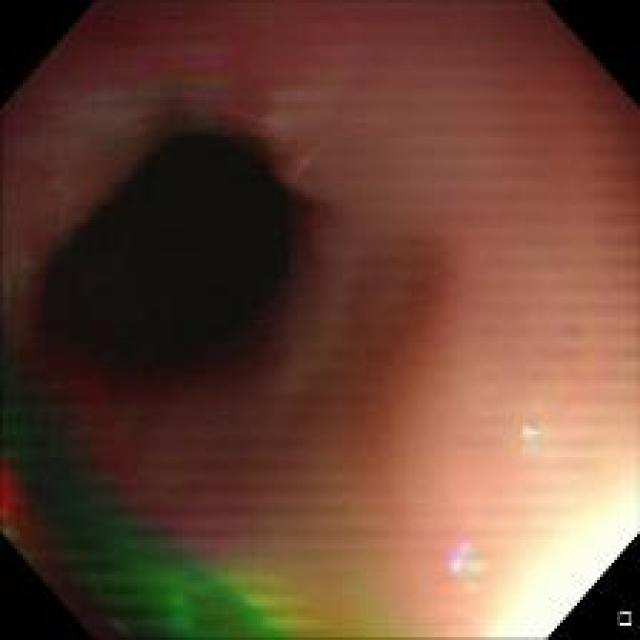color misalignment: (12, 364, 296, 631), (66, 88, 311, 178), (446, 536, 490, 605), (510, 416, 566, 461)
contrast: (41, 92, 355, 476)
saturation: (481, 490, 632, 634)
